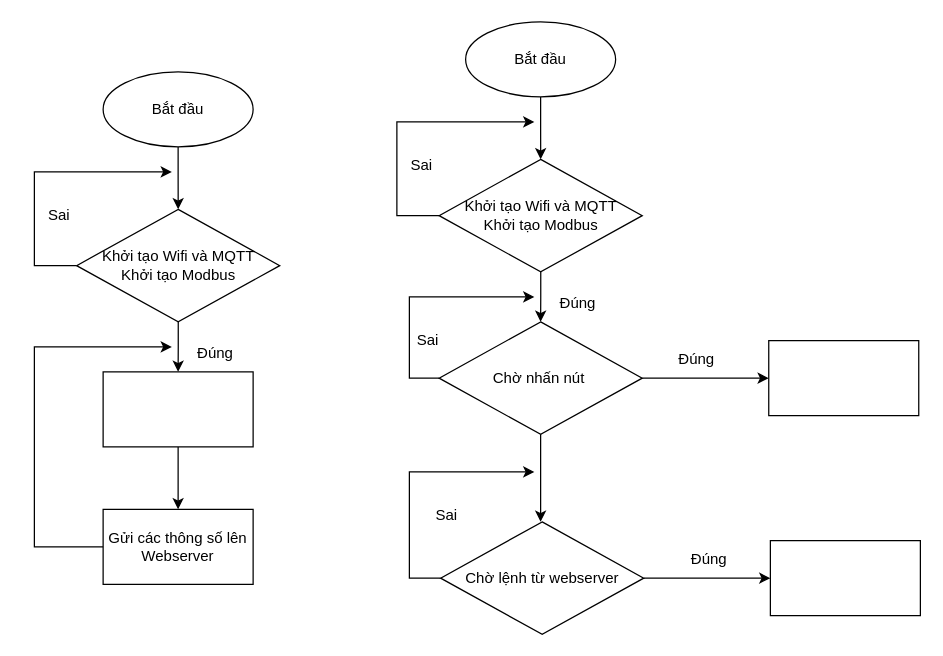
Image size: 943x656. Some labels were removed from this diagram. Each missing label, with the box of its shape:
Hiển thị thông số lên LCD: (102, 371, 253, 447)
Nhận tần số, thực hiện quay thuận, quay ngược và dừng: (769, 539, 920, 616)
Thực hiện quay thuận, quay ngược và dừng: (768, 339, 919, 416)
